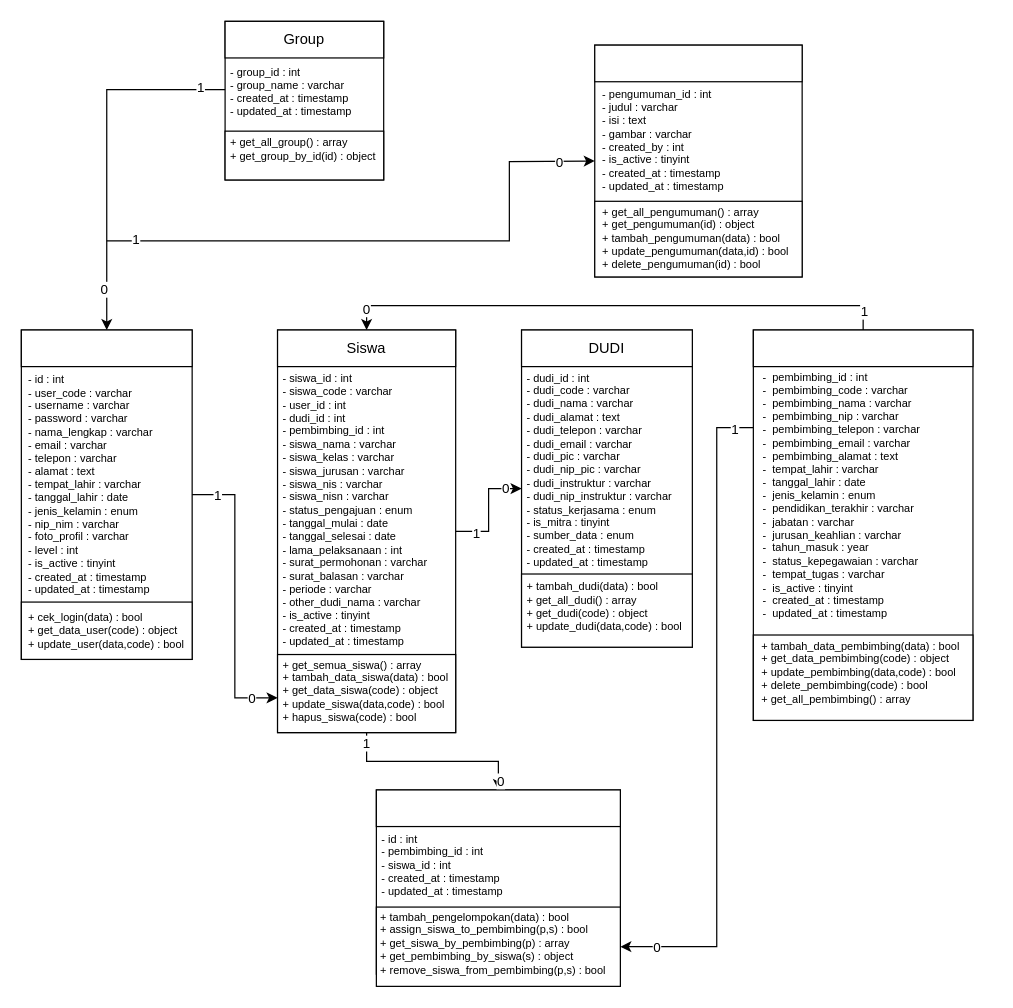
This 1013x1008 diagram has some shape labels left out. The centre of each missing label's shape, as x and y in pixels:
Pembimbing: (862,348)
Pengelompokan: (497,808)
Pengumuman: (698,63)
User: (106,348)
